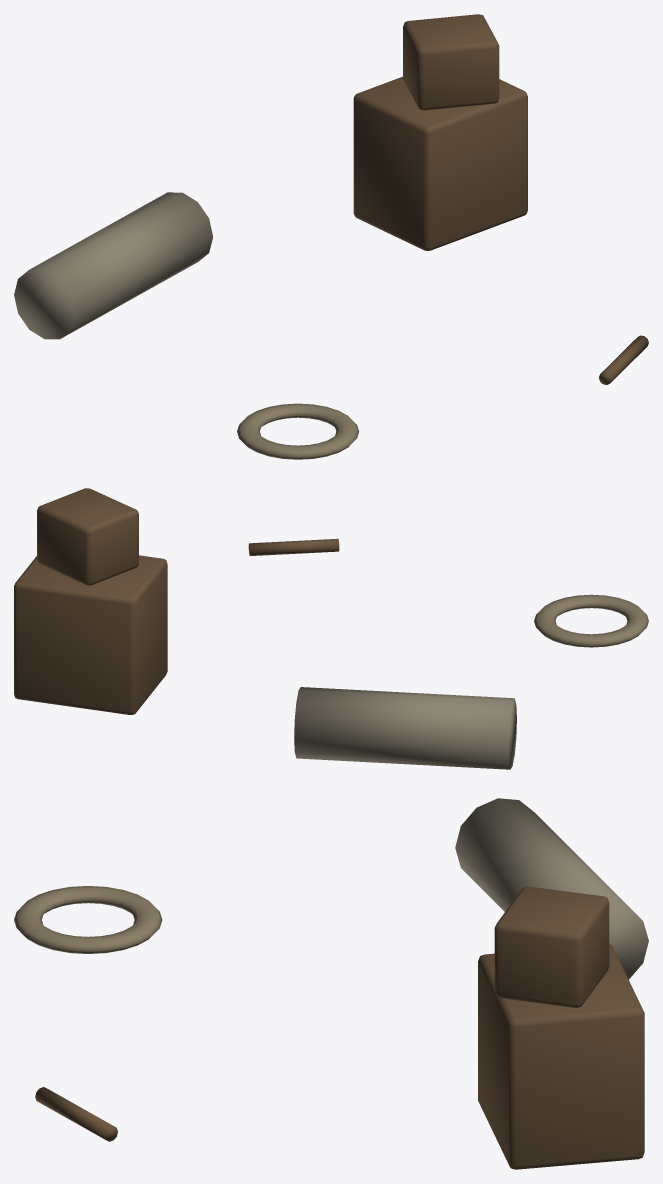
The model's file is camp.glb.
3 renders of one model, top to bottom at view 1: azimuth 30°, elevation 25°; view 2: azimuth 150°, elevation 25°; view 3: azimuth 270°, elevation 25°, orthographic. The views are drawn at different scales.
Parts seen in each view (by area): view 1: Crate, Tent, CrateSmall, Coil, Pick; view 2: Crate, Tent, CrateSmall, Coil, Pick; view 3: Crate, CrateSmall, Tent, Coil, Pick.
Boxes of the visible parts, <box> form: Crate: <box>353,76,527,250</box>; Tent: <box>14,192,212,339</box>; CrateSmall: <box>403,14,499,110</box>; Coil: <box>237,403,359,459</box>; Pick: <box>599,335,648,384</box>; Crate: <box>14,555,167,714</box>; Tent: <box>294,687,516,769</box>; CrateSmall: <box>37,488,138,585</box>; Coil: <box>534,594,648,647</box>; Pick: <box>248,538,339,555</box>; Crate: <box>478,944,644,1169</box>; CrateSmall: <box>494,886,609,1007</box>; Tent: <box>455,798,648,979</box>; Coil: <box>14,886,162,953</box>; Pick: <box>35,1087,117,1141</box>.
Size of the model in its own units: 1.52 by 0.54 by 1.37.
